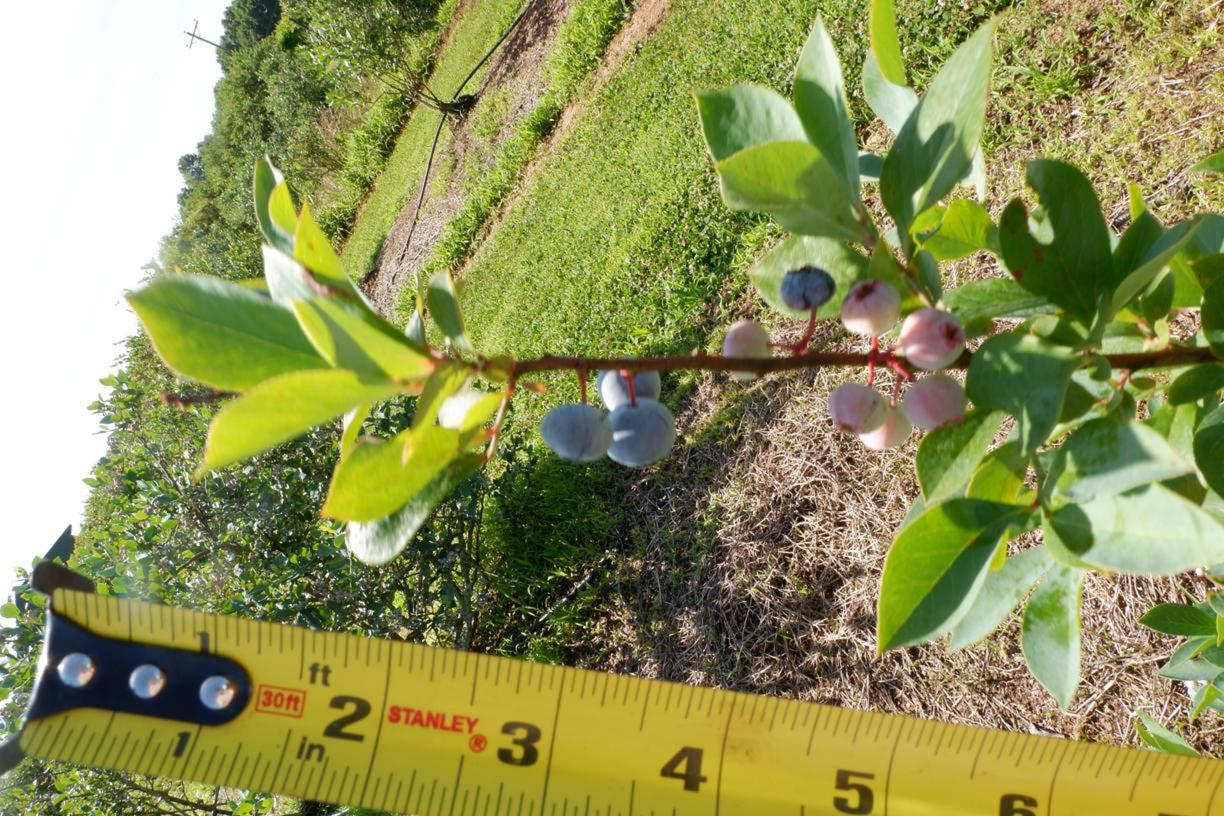Immature: (900, 310, 967, 370), (899, 377, 968, 430), (842, 279, 903, 337), (721, 320, 774, 381), (828, 383, 889, 434), (860, 406, 911, 450)
Mature: (605, 398, 678, 465), (539, 402, 616, 462), (781, 263, 837, 313), (596, 370, 662, 409)
